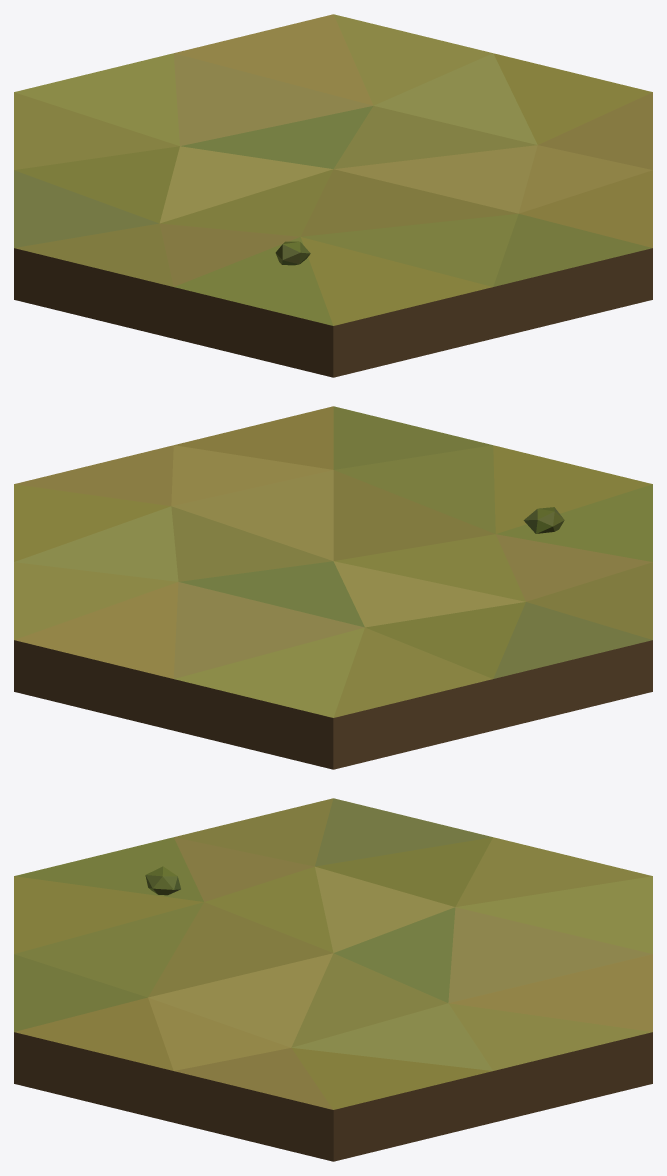
The model's file is Plains-Far.glb.
The picture shows the model from 3 angles, top to bottom: view 1: azimuth 30°, elevation 25°; view 2: azimuth 150°, elevation 25°; view 3: azimuth 270°, elevation 25°; orthographic projection.
Parts seen in each view (by area): view 1: Plains-Far; view 2: Plains-Far; view 3: Plains-Far.
Boxes of the visible parts, x1=… form: Plains-Far: x1=14, y1=14, x2=652, y2=377; Plains-Far: x1=14, y1=406, x2=652, y2=769; Plains-Far: x1=14, y1=798, x2=652, y2=1161.
Bounding box in the file's own units: 1.94 × 0.2123 × 1.68.
